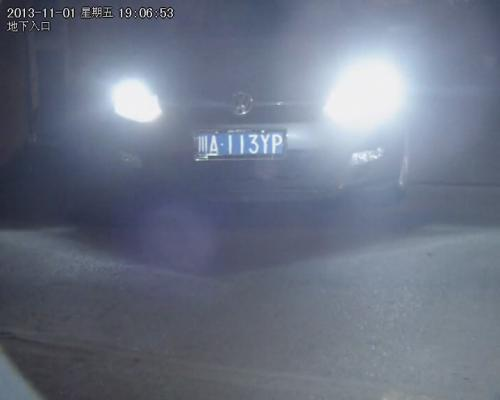Carplate: (189, 124, 290, 165)
